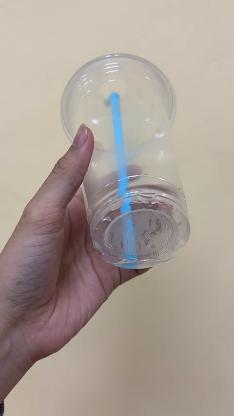Plastic Cup: (61, 52, 191, 270)
